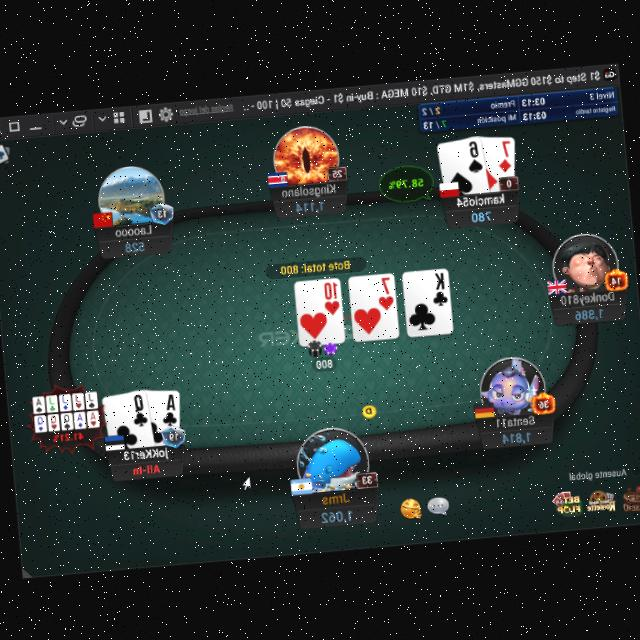6s: (464, 136, 484, 172)
7d: (494, 137, 514, 172)
7h: (374, 273, 394, 309)
Ac: (157, 388, 179, 425)
Ad: (493, 136, 513, 172)
Kc: (428, 268, 448, 306)
Qc: (129, 388, 149, 426)
Th: (321, 277, 341, 313)
all_in_symbol: (131, 459, 161, 474)
bet_text: (313, 354, 334, 368)
dealer: (360, 398, 378, 416)
pot_text: (278, 256, 350, 274)
stack_text: (319, 502, 355, 522), (292, 194, 324, 212), (499, 426, 532, 443), (573, 303, 604, 320), (468, 205, 492, 222), (122, 235, 145, 251)
